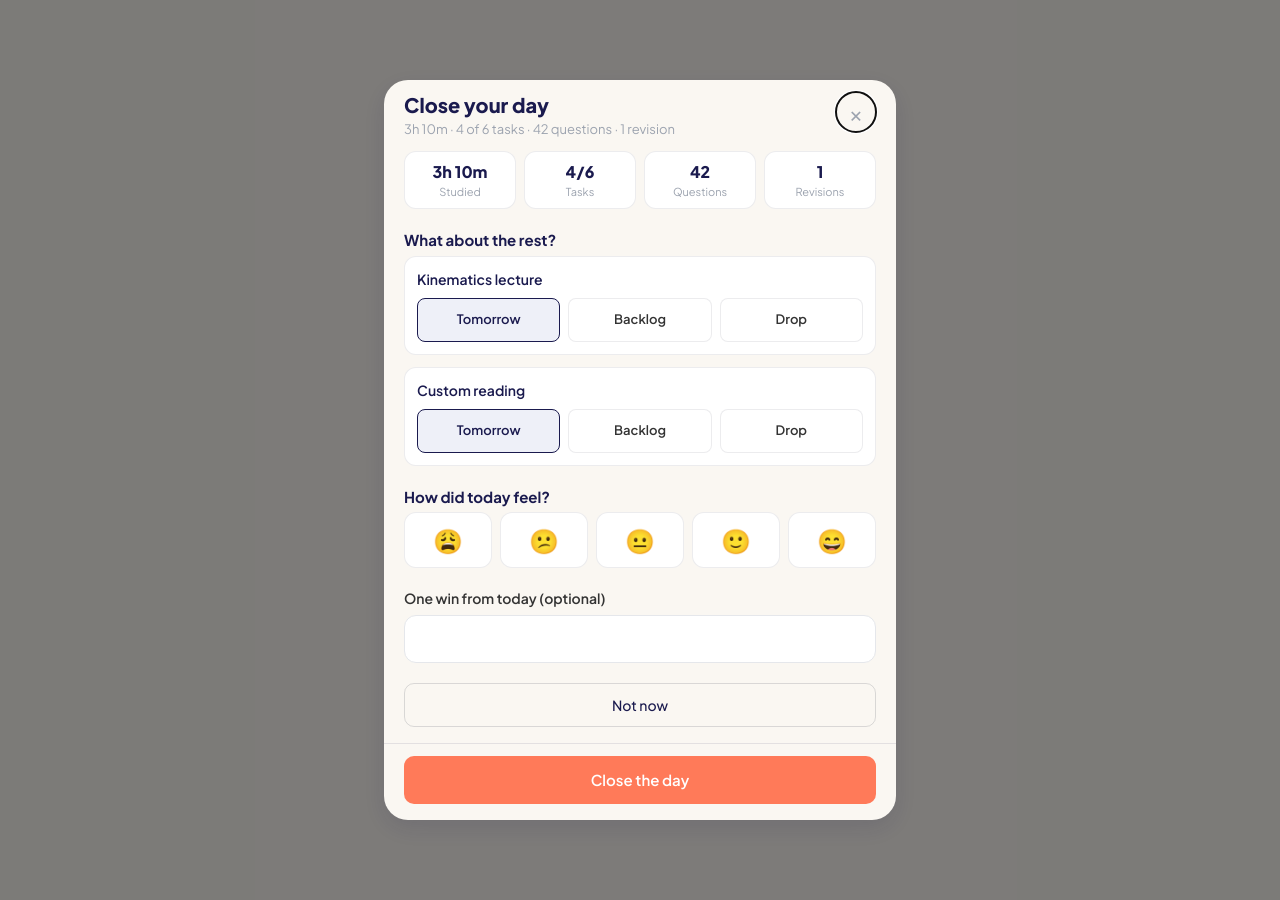
Test: Day Close › with no chapter picked the task is kept for tomorrow and the student is told, never dropped silently
The width and height of the screenshot is (1280, 900).
Click the radio button with test id "choice-backlog" below "Custom reading": (640, 431) [568, 409, 712, 453]
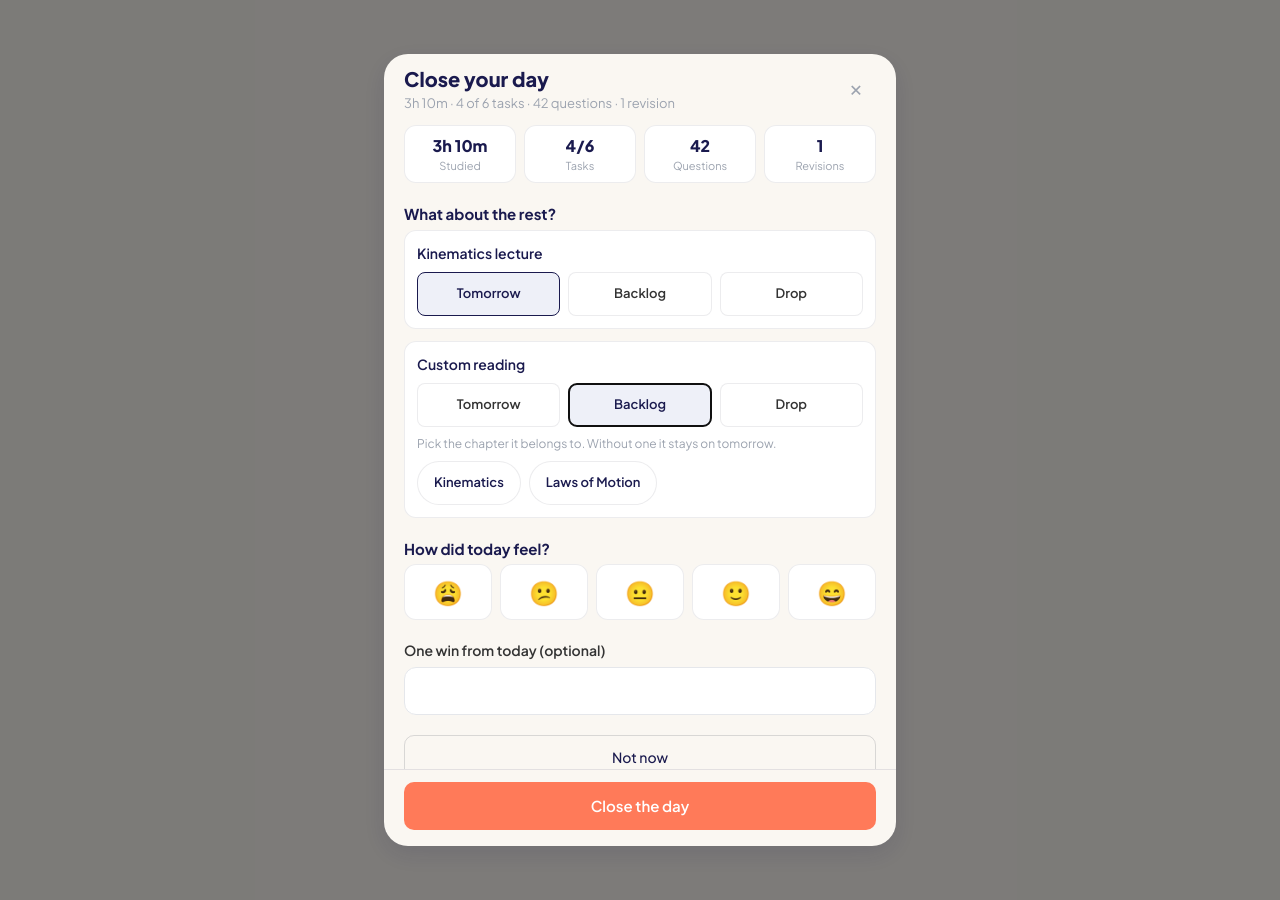
Result: the element with test id "backlog-chapter-pick" shows "Without one it stays on tomorrow" at [417, 436, 776, 451]
Click the button with test id "day-close-submit": (640, 806) [404, 782, 876, 830]
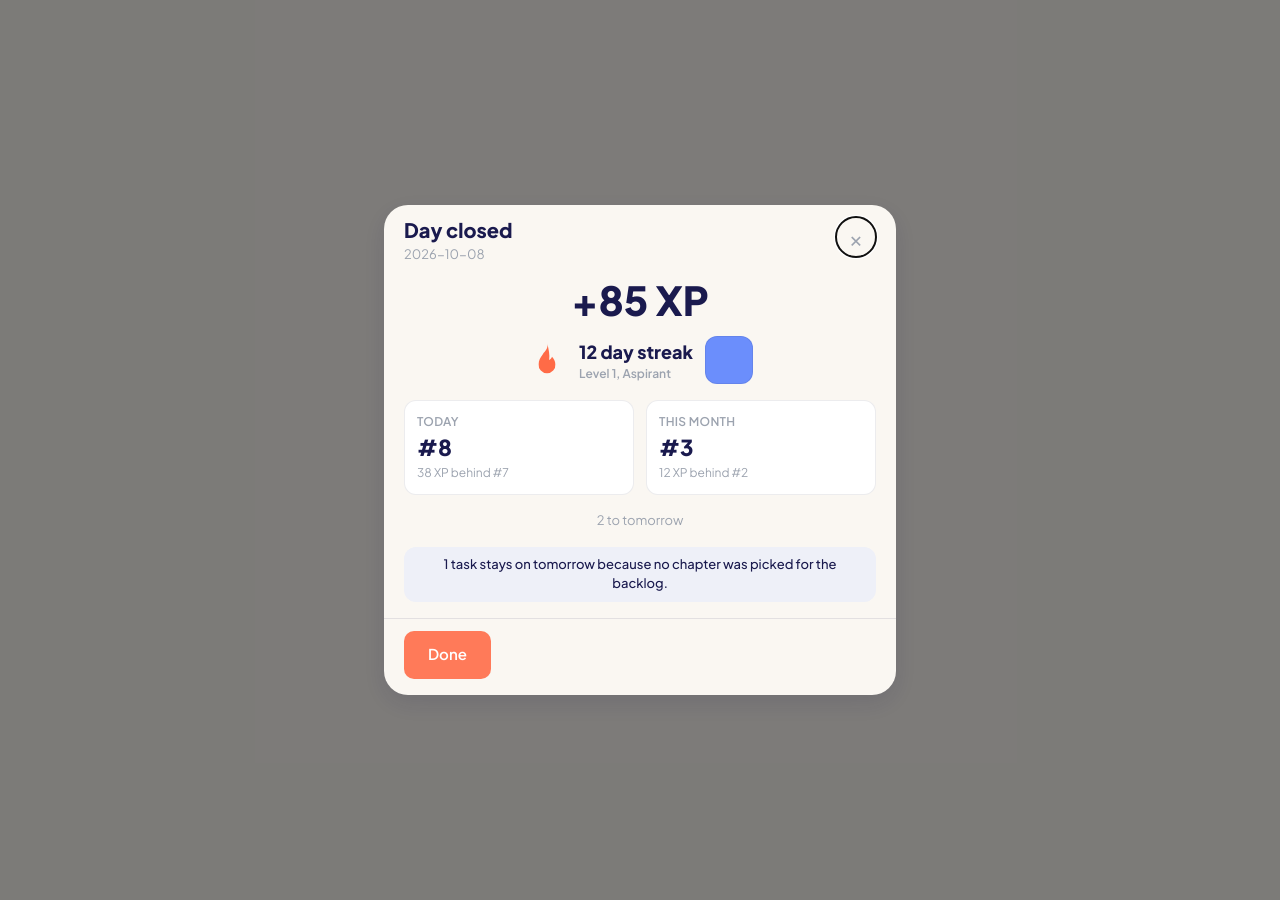
Result: the message with test id "reward-kept" shows "1 task stays on tomorrow" at [444, 556, 836, 591]
